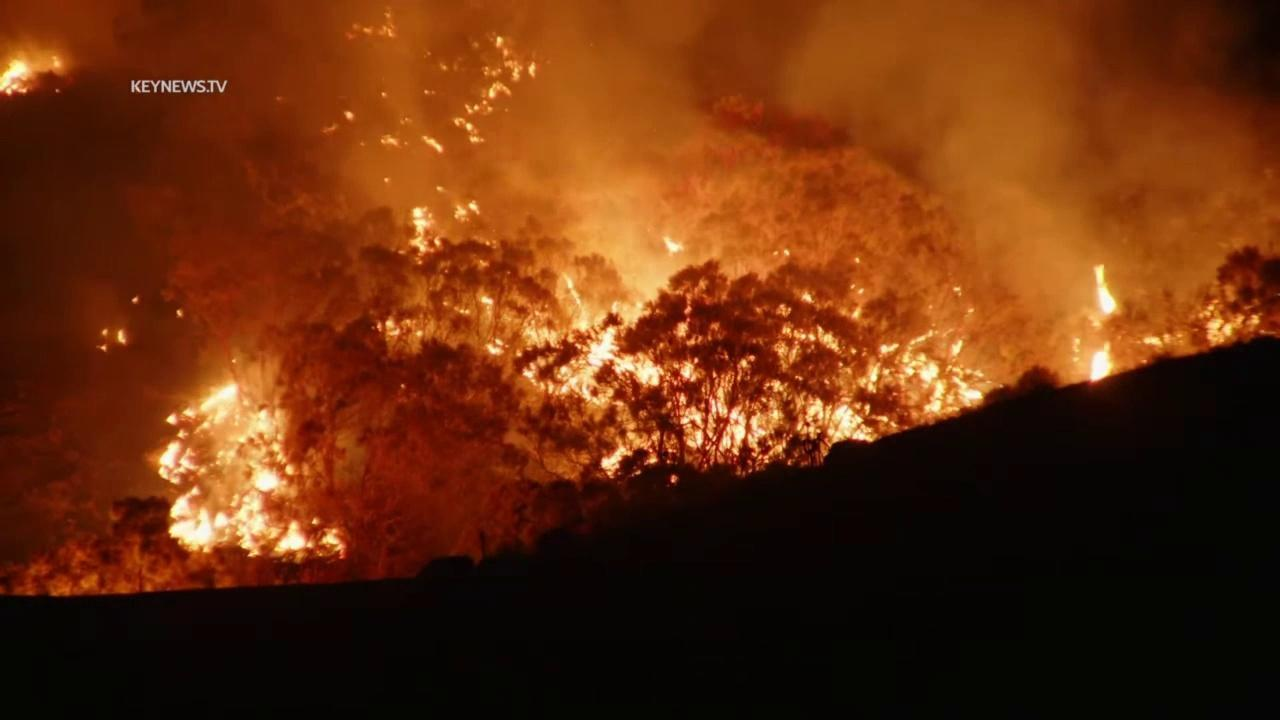fire: (512, 269, 988, 489), (153, 377, 350, 564), (1193, 297, 1263, 349), (390, 205, 443, 264), (480, 34, 540, 83), (462, 81, 514, 116), (353, 3, 397, 43), (1091, 263, 1118, 316), (0, 58, 32, 100), (375, 315, 426, 340), (1089, 339, 1114, 386), (1133, 329, 1186, 350), (452, 119, 484, 145), (451, 199, 483, 224), (659, 233, 688, 254), (421, 132, 445, 157), (378, 132, 404, 152), (483, 337, 508, 357), (1071, 336, 1083, 366), (48, 52, 64, 71), (114, 328, 129, 346), (477, 294, 495, 308), (173, 307, 186, 320), (436, 181, 448, 195), (343, 109, 356, 121), (377, 90, 392, 99), (96, 344, 108, 353), (100, 327, 109, 338), (129, 296, 140, 305)
smoke: (0, 0, 1280, 561)
